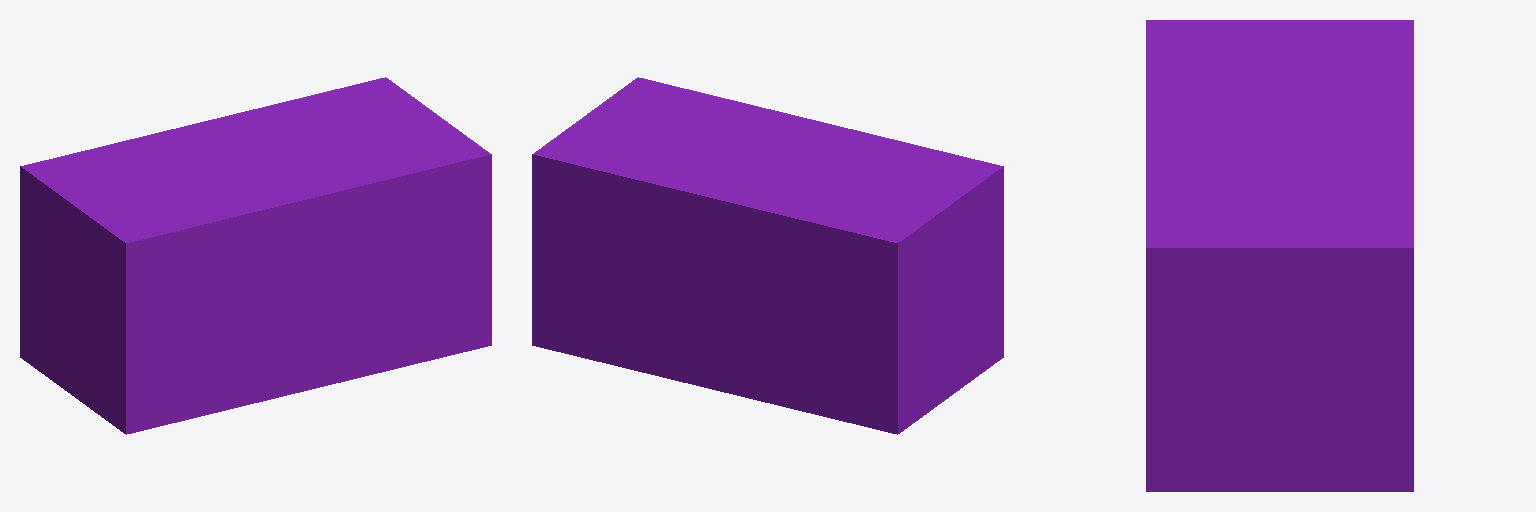
URDF robot description (parallelepipede):
<?xml version="1.0" ?>
<robot name="parallelepipede">
    <link name="parallelepipede_link">
        <inertial>
            <origin rpy="0 0 0" xyz="0.05 0.02 -0.04"/>
            <mass value="1.23"/>
            <inertia 
                ixx="0.005" 
                ixy="0.001" 
                ixz="-0.001" 
                iyy="0.006" 
                iyz="0.002" 
                izz="0.007"/>
        </inertial>
        <visual>
            <origin rpy="0 0 0" xyz="0 0 0"/>
            <geometry>
                <box size="0.2 0.1 0.1"/>
            </geometry>
            <material name="Purple">
                <color rgba="0.6 0.2 0.8 1.0"/>
            </material>
        </visual>
        <collision>
            <origin rpy="0 0 0" xyz="0 0 0"/>
            <geometry>
                <box size="0.2 0.1 0.1"/>
            </geometry>
        </collision>
    </link>
</robot>

--- Facts derived from the render (not from the file) ---
The picture shows the robot from 3 angles, left to right: view 1: azimuth 30°, elevation 25°; view 2: azimuth 150°, elevation 25°; view 3: azimuth 270°, elevation 25°; orthographic projection.
Robot: parallelepipede — 1 links, 0 joints (none); root link parallelepipede_link; default pose: all joints at 0.
Links seen in each view (by area): view 1: parallelepipede_link; view 2: parallelepipede_link; view 3: parallelepipede_link.
Boxes of the visible links, x1,y1,x2,y2 form: parallelepipede_link: [20, 77, 491, 434]; parallelepipede_link: [532, 77, 1003, 434]; parallelepipede_link: [1146, 20, 1413, 491].
Size in the robot's own frame: 0.2 by 0.1 by 0.1 metres.
Geometry: primitives only (box / cylinder / sphere), no mesh files.
